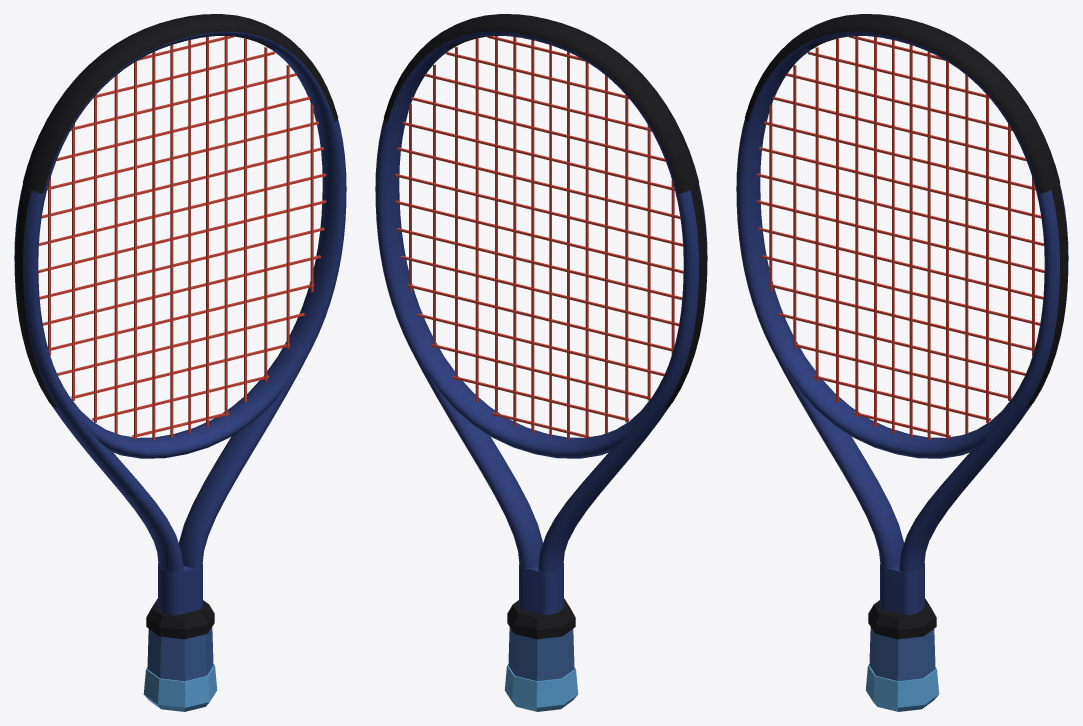
The model's file is head-paw-patrol-junior-17.glb.
The picture shows the model from 3 angles, left to right: view 1: azimuth 30°, elevation 25°; view 2: azimuth 150°, elevation 25°; view 3: azimuth 330°, elevation 25°; orthographic projection.
Parts seen in each view (by area): view 1: frame, strings_mains, strings_crosses, bumper, grip, butt_cap, collar, grommets; view 2: frame, strings_mains, strings_crosses, bumper, grip, butt_cap, collar, grommets; view 3: frame, strings_mains, strings_crosses, bumper, grip, butt_cap, collar, grommets.
Part boxes in pixels (x1,y1,x2,y2): frame: [14, 31, 346, 615]; strings_mains: [48, 36, 313, 439]; strings_crosses: [38, 36, 326, 438]; bumper: [22, 14, 338, 193]; grip: [147, 627, 213, 681]; butt_cap: [143, 664, 217, 711]; collar: [146, 598, 214, 639]; grommets: [15, 185, 56, 407]; frame: [375, 31, 707, 615]; strings_mains: [409, 36, 674, 439]; strings_crosses: [395, 36, 683, 438]; bumper: [383, 14, 699, 193]; grip: [508, 627, 574, 681]; butt_cap: [504, 664, 578, 711]; collar: [507, 598, 575, 639]; grommets: [665, 185, 706, 407]; frame: [736, 31, 1068, 615]; strings_mains: [769, 36, 1034, 439]; strings_crosses: [756, 36, 1044, 438]; bumper: [744, 14, 1060, 193]; grip: [869, 627, 935, 681]; butt_cap: [865, 664, 939, 711]; collar: [868, 598, 936, 639]; grommets: [1026, 185, 1067, 407].
Bounding box in the file's own units: 0.2171 × 0.4321 × 0.0396.
